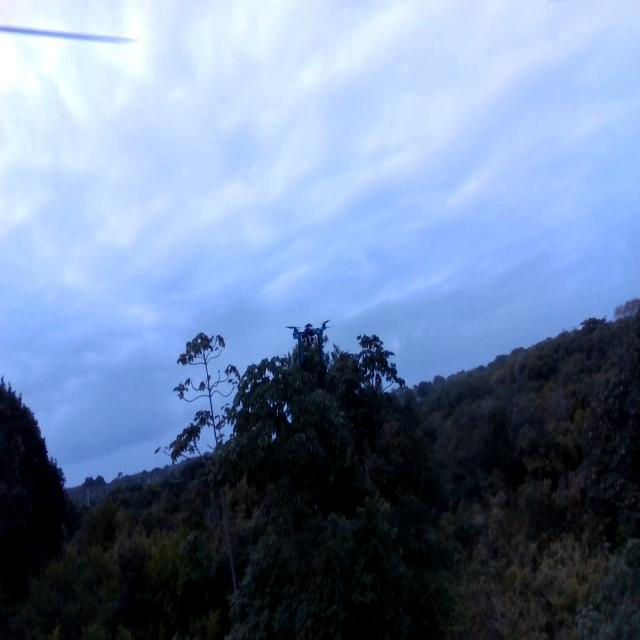-uav-: (288, 318, 330, 375)
